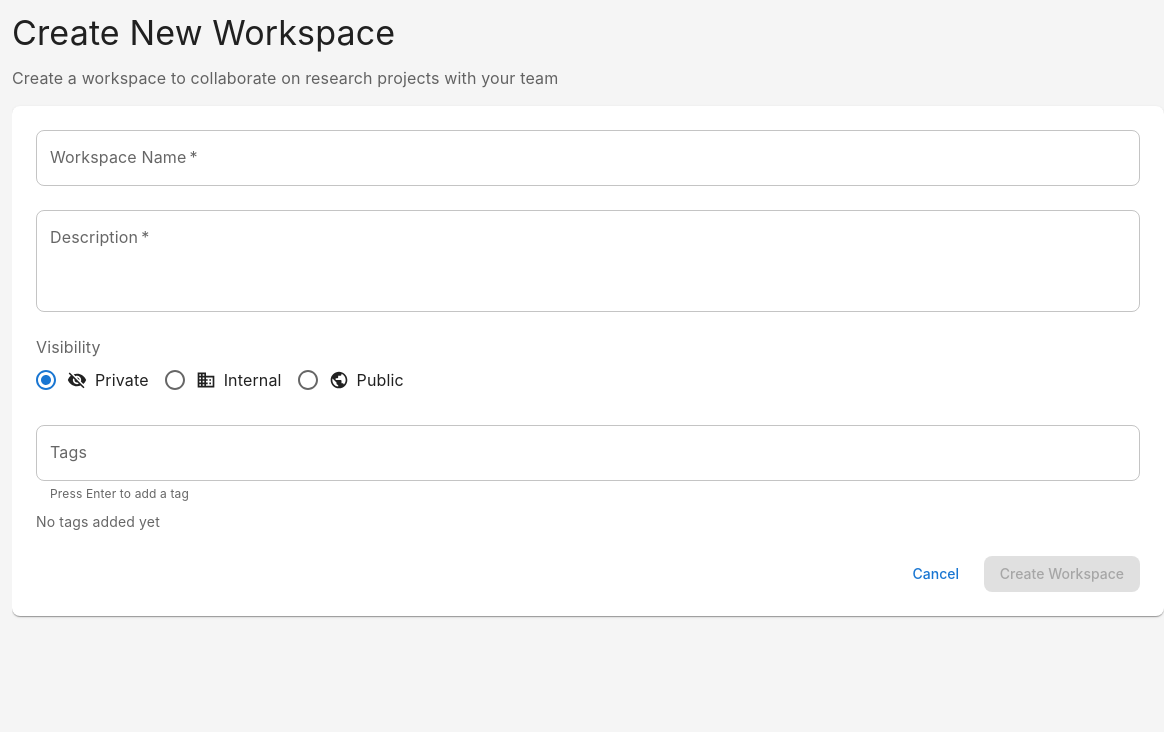
Test: CreateWorkspaceForm Component › shows success message after successful submission
Type "Test Workspace" into the field labelled "Workspace Name *".
click(588, 158); type("Test Workspace")  # box [36,130,1140,186]
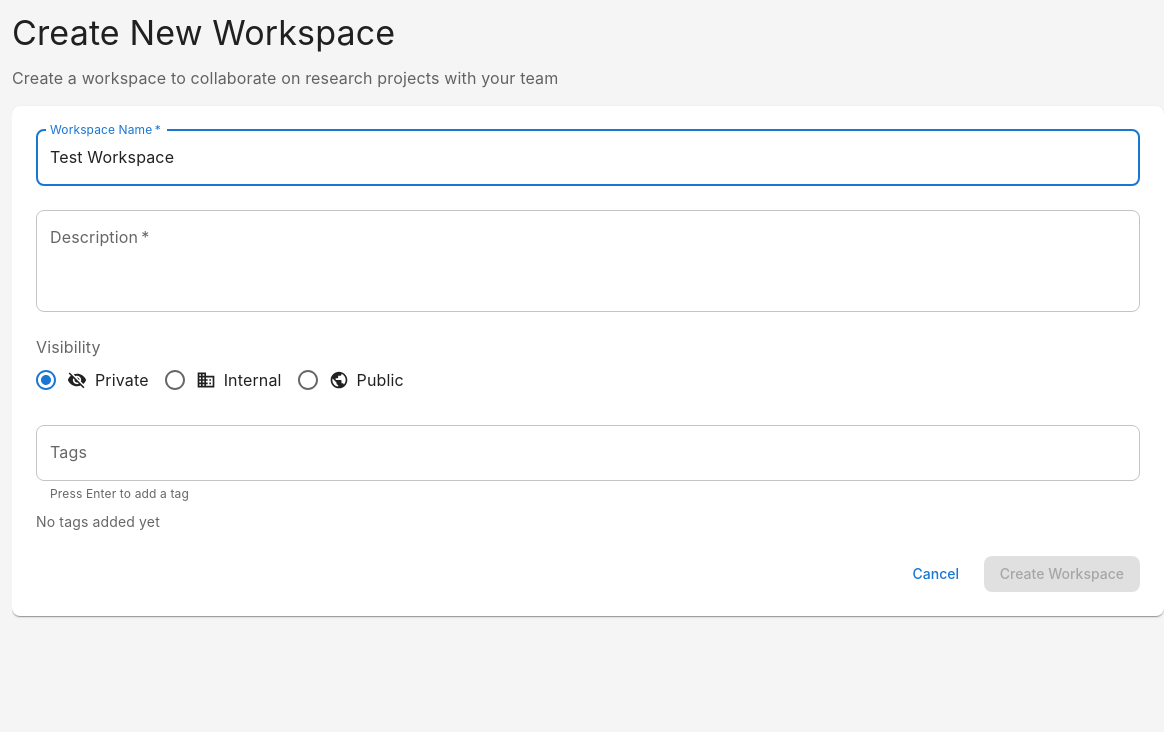
Type "Test Description" into the text box labelled "Description *".
click(588, 261); type("Test Description")  # box [50,226,1126,295]
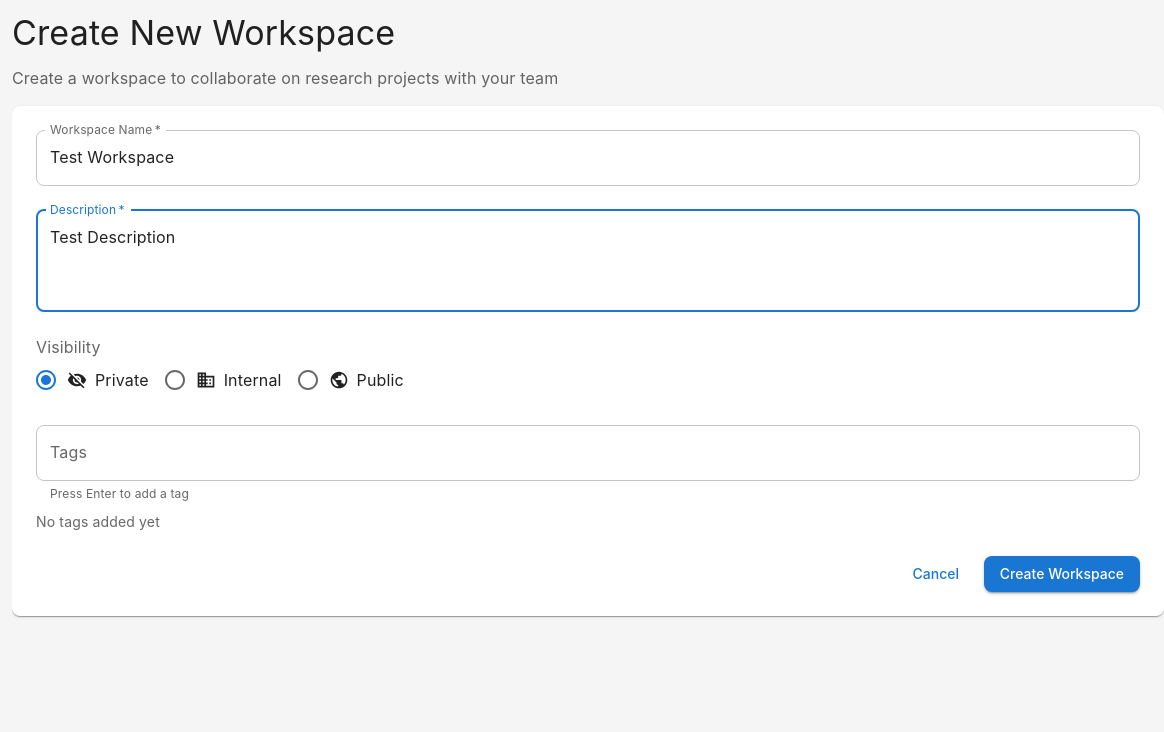
Click the button "Create Workspace".
click(1062, 574)  # box [984,556,1140,592]
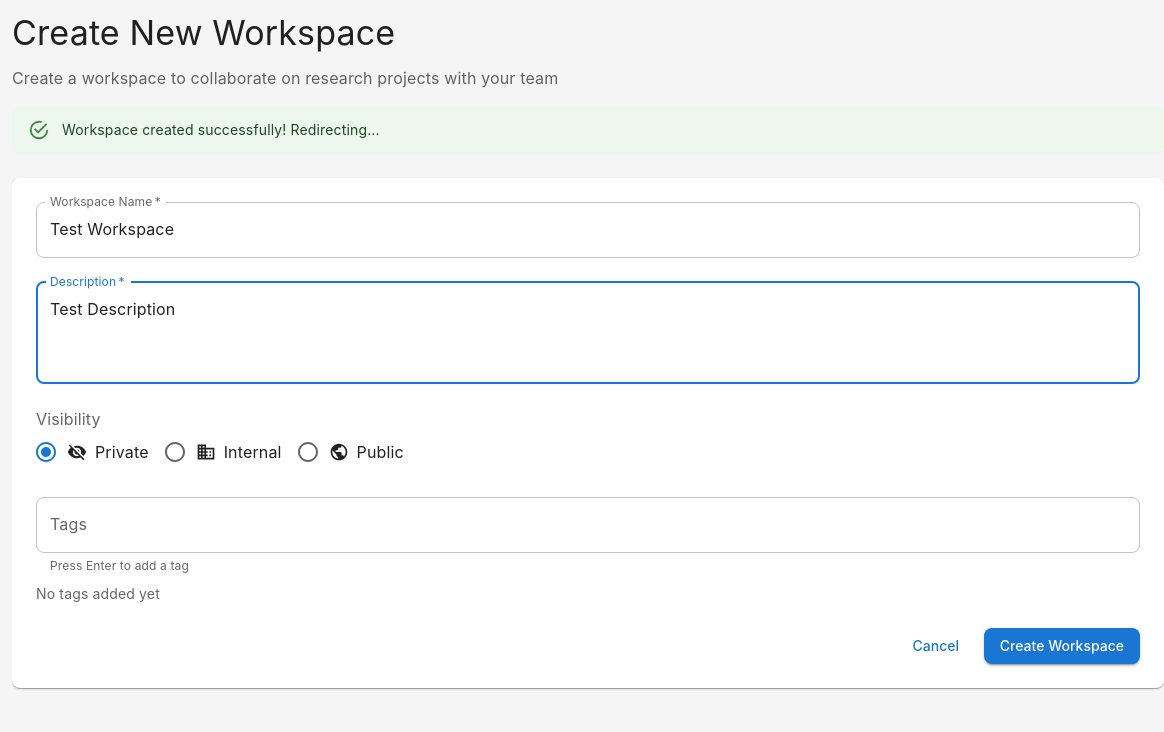
Expected: the text "Workspace created successfully! Redirecting..." is shown, [62,121,380,138]
